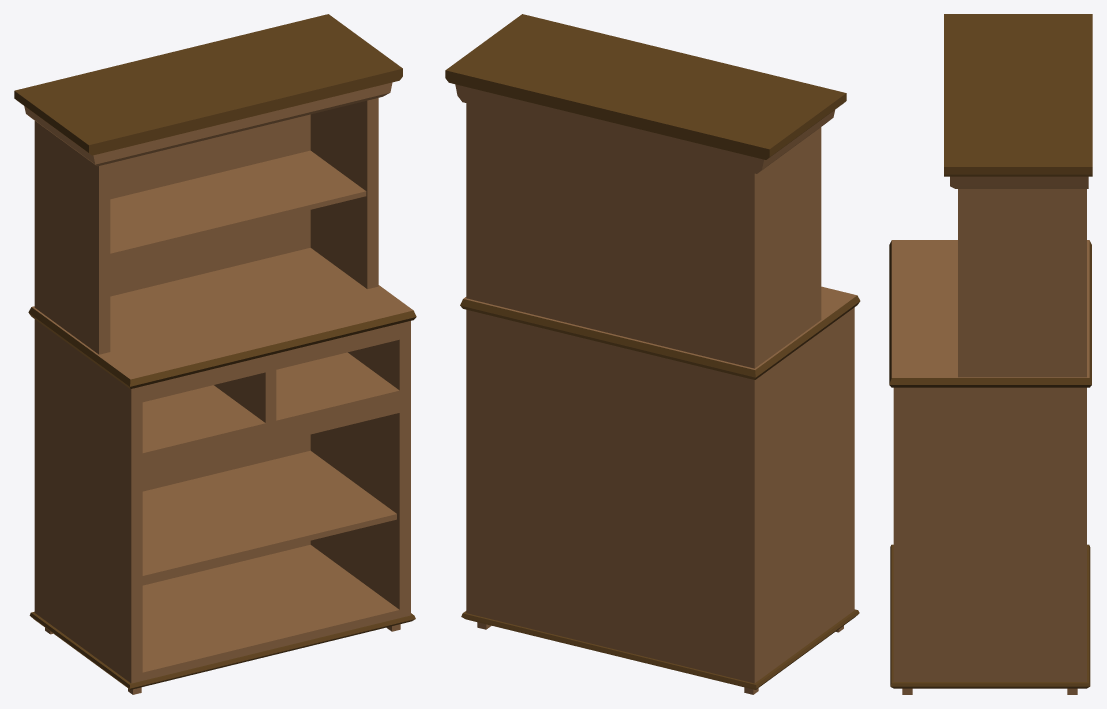
The model's file is drawer_7.glb.
3 renders of one model, left to right at view 1: azimuth 30°, elevation 25°; view 2: azimuth 150°, elevation 25°; view 3: azimuth 270°, elevation 25°, orthographic. The views are drawn at different scales.
Parts seen in each view (by area): view 1: Drawer 2 (Old); view 2: Drawer 2 (Old); view 3: Drawer 2 (Old).
Boxes of the visible parts, bbox=[...] form: Drawer 2 (Old): bbox=[14, 14, 416, 694]; Drawer 2 (Old): bbox=[445, 14, 860, 694]; Drawer 2 (Old): bbox=[889, 14, 1092, 694].
Bounding box in the file's own units: 1.12 × 1.85 × 0.6319.
1 material, 1 textured.
